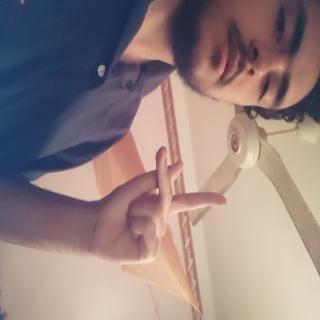DHAA: (107, 120, 201, 313)
